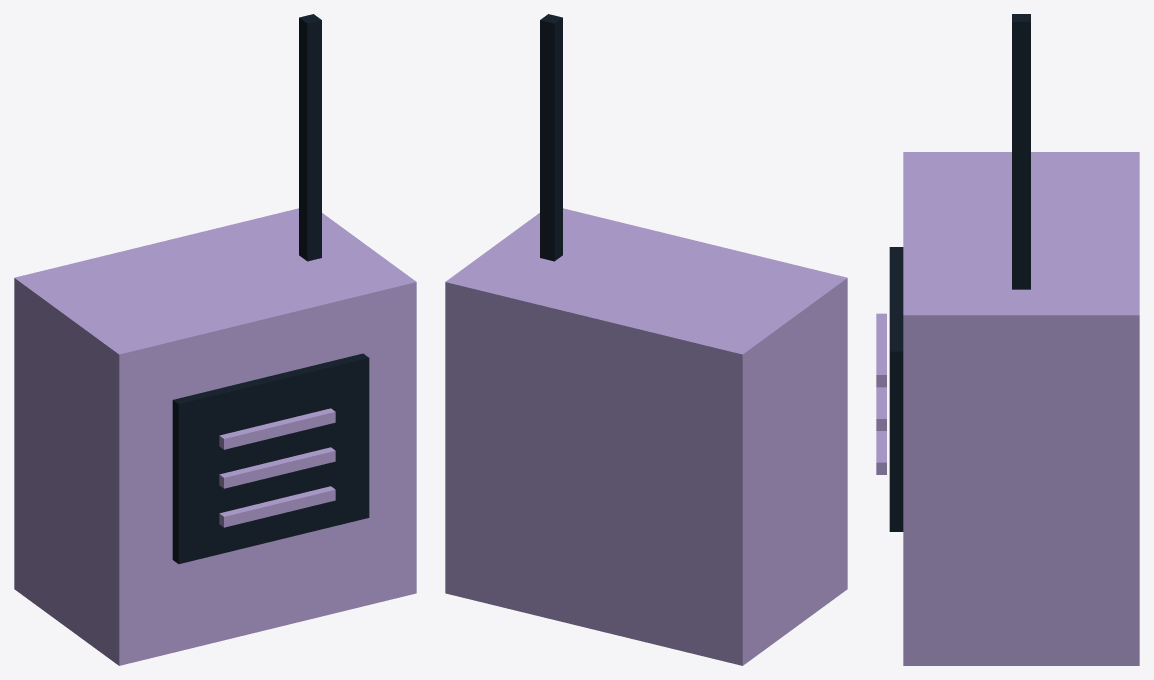
The model's file is item-radio.glb.
3 renders of one model, left to right at view 1: azimuth 30°, elevation 25°; view 2: azimuth 150°, elevation 25°; view 3: azimuth 270°, elevation 25°, orthographic. The views are drawn at different scales.
Parts seen in each view (by area): view 1: package, label, antenna, speaker-line (×3); view 2: package, antenna; view 3: package, antenna, label, speaker-line (×3).
Part boxes in pixels (x1=…): package: x1=14, y1=208, x2=416, y2=665; label: x1=172, y1=353, x2=369, y2=563; antenna: x1=299, y1=14, x2=321, y2=261; speaker-line (×3): x1=219, y1=408, x2=335, y2=527; package: x1=445, y1=208, x2=847, y2=665; antenna: x1=540, y1=14, x2=562, y2=261; package: x1=903, y1=152, x2=1139, y2=665; antenna: x1=1012, y1=14, x2=1030, y2=289; label: x1=889, y1=247, x2=903, y2=531; speaker-line (×3): x1=876, y1=313, x2=886, y2=474.
Size of the model in its own units: 0.72 by 1.27 by 0.49.
